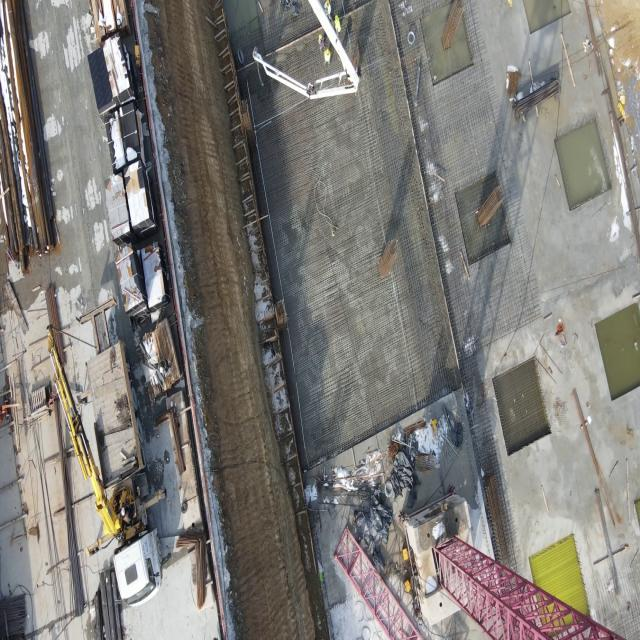p3rson: (323, 0, 333, 23), (120, 504, 132, 522), (334, 14, 342, 38), (159, 358, 172, 372), (324, 47, 331, 67), (318, 32, 325, 52)
